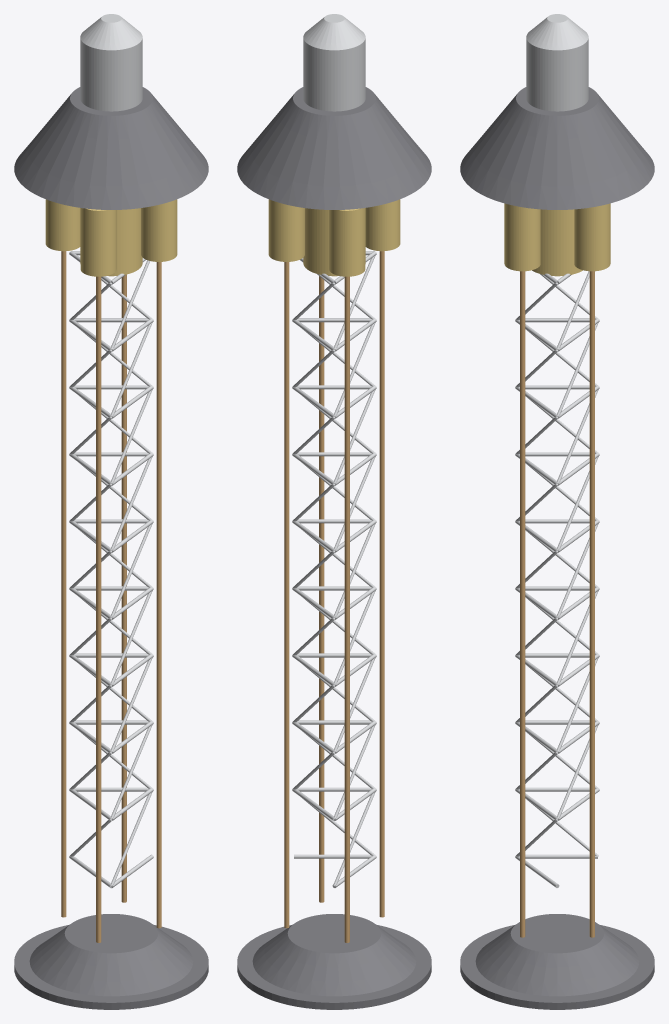
The model's file is power07_mw_reactor.glb.
3 renders of one model, left to right at view 1: azimuth 30°, elevation 25°; view 2: azimuth 150°, elevation 25°; view 3: azimuth 270°, elevation 25°, orthographic.
Parts seen in each view (by area): view 1: shadow_shield, coolant_loops, base_adapter, boom_truss, brayton_pcu, reactor_vessel; view 2: shadow_shield, coolant_loops, base_adapter, boom_truss, brayton_pcu, reactor_vessel; view 3: shadow_shield, base_adapter, boom_truss, coolant_loops, brayton_pcu, reactor_vessel.
Boxes of the visible parts, x1,y1,x2,y2 form: shadow_shield: (14, 87, 208, 209); coolant_loops: (61, 251, 161, 942); base_adapter: (14, 914, 208, 1009); boom_truss: (69, 251, 153, 888); brayton_pcu: (45, 199, 177, 276); reactor_vessel: (80, 14, 142, 111); shadow_shield: (237, 87, 431, 209); coolant_loops: (284, 251, 384, 942); base_adapter: (237, 914, 431, 1009); boom_truss: (292, 251, 376, 887); brayton_pcu: (268, 199, 400, 276); reactor_vessel: (303, 14, 365, 111); shadow_shield: (460, 87, 654, 209); base_adapter: (460, 914, 654, 1009); boom_truss: (515, 271, 599, 887); coolant_loops: (520, 271, 594, 937); brayton_pcu: (504, 203, 610, 276); reactor_vessel: (526, 14, 588, 111).
Size of the model in its own units: 3.75 by 20.2 by 3.75.
